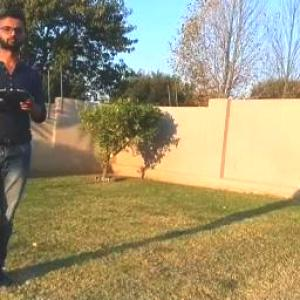follow: (0, 3, 56, 296)
